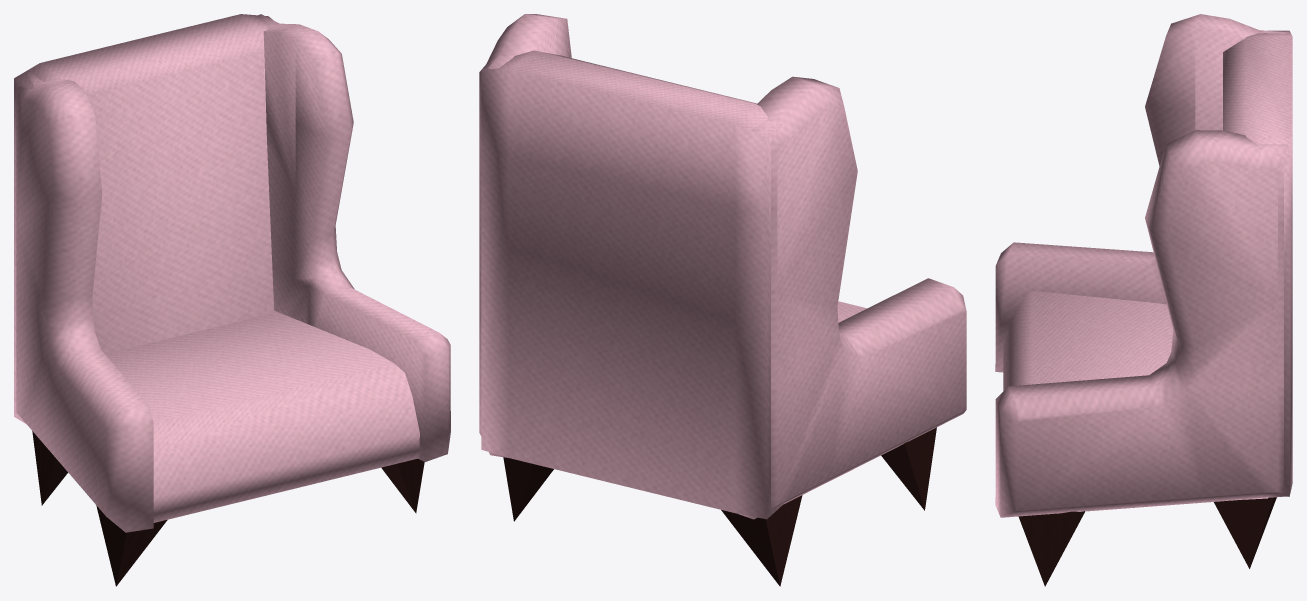
Rendered from Winged_Armchair_C_2.FBX.
The picture shows the model from 3 angles, left to right: view 1: azimuth 30°, elevation 25°; view 2: azimuth 150°, elevation 25°; view 3: azimuth 270°, elevation 25°; orthographic projection. The views are drawn at different scales.
Visible parts, largest first — view 1: Winged_Armchair; view 2: Winged_Armchair; view 3: Winged_Armchair.
Part boxes in pixels (x1,y1,x2,y2): Winged_Armchair: (14,14,450,586); Winged_Armchair: (479,14,966,586); Winged_Armchair: (995,14,1292,586).
Bounding box in the file's own units: 174 × 208 × 129.
